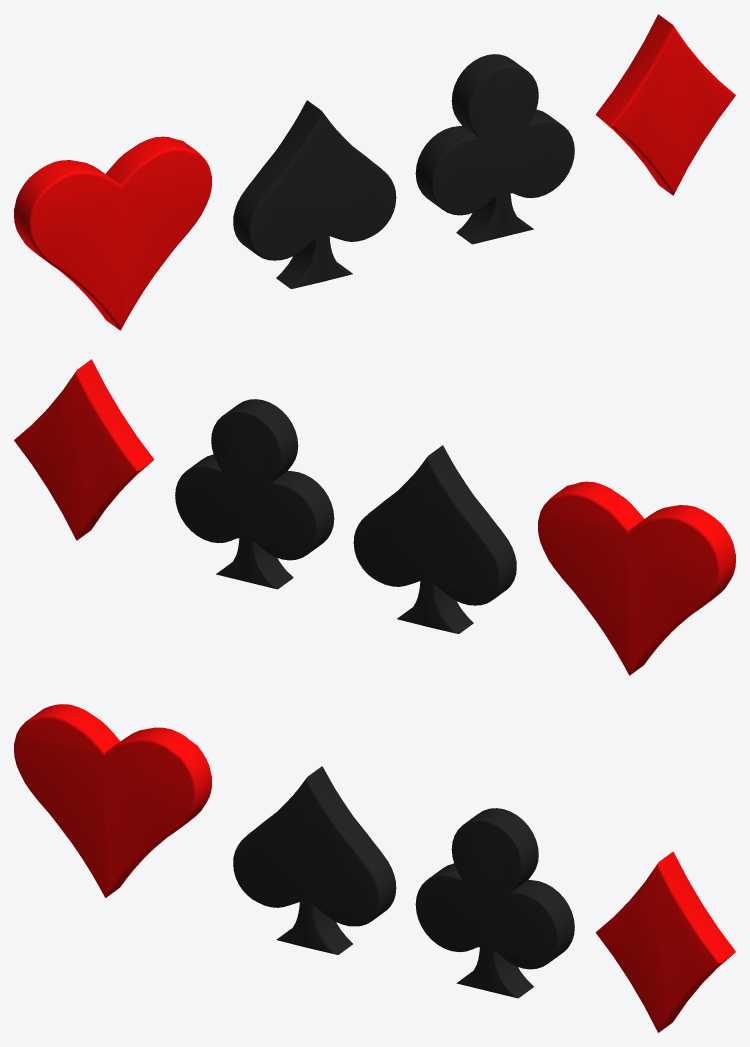
3 renders of one model, top to bottom at view 1: azimuth 30°, elevation 25°; view 2: azimuth 150°, elevation 25°; view 3: azimuth 330°, elevation 25°, orthographic.
Parts seen in each view (by area): view 1: Hearts, Clubs, Spades, Diamonds; view 2: Hearts, Clubs, Spades, Diamonds; view 3: Hearts, Clubs, Spades, Diamonds.
Part boxes in pixels (box(x1,y1,x2,y2)): Hearts: box(14, 136, 211, 330); Clubs: box(415, 54, 574, 244); Spades: box(233, 100, 396, 288); Diamonds: box(595, 14, 735, 195); Hearts: box(538, 481, 735, 675); Clubs: box(175, 399, 334, 589); Spades: box(353, 445, 516, 633); Diamonds: box(14, 359, 154, 540); Hearts: box(14, 704, 211, 897); Clubs: box(415, 808, 574, 998); Spades: box(233, 766, 396, 954); Diamonds: box(595, 851, 735, 1032).
Bounding box in the file's own units: 22.18 × 5.14 × 0.9386.
4 materials, 4 textured.
